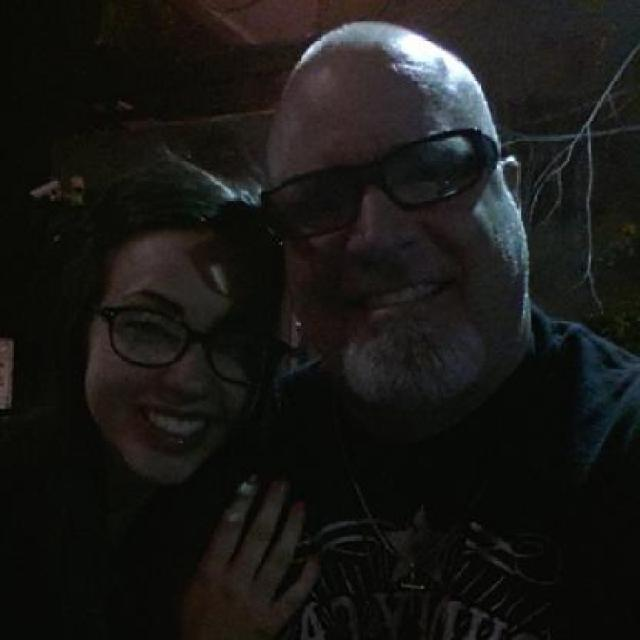face_nomask: (268, 138, 490, 328), (107, 299, 258, 458)
glasses: (258, 123, 504, 239), (102, 299, 264, 392)
hand_noglove: (169, 464, 315, 640)
head_nohelmet: (262, 19, 480, 102), (98, 179, 255, 270)
